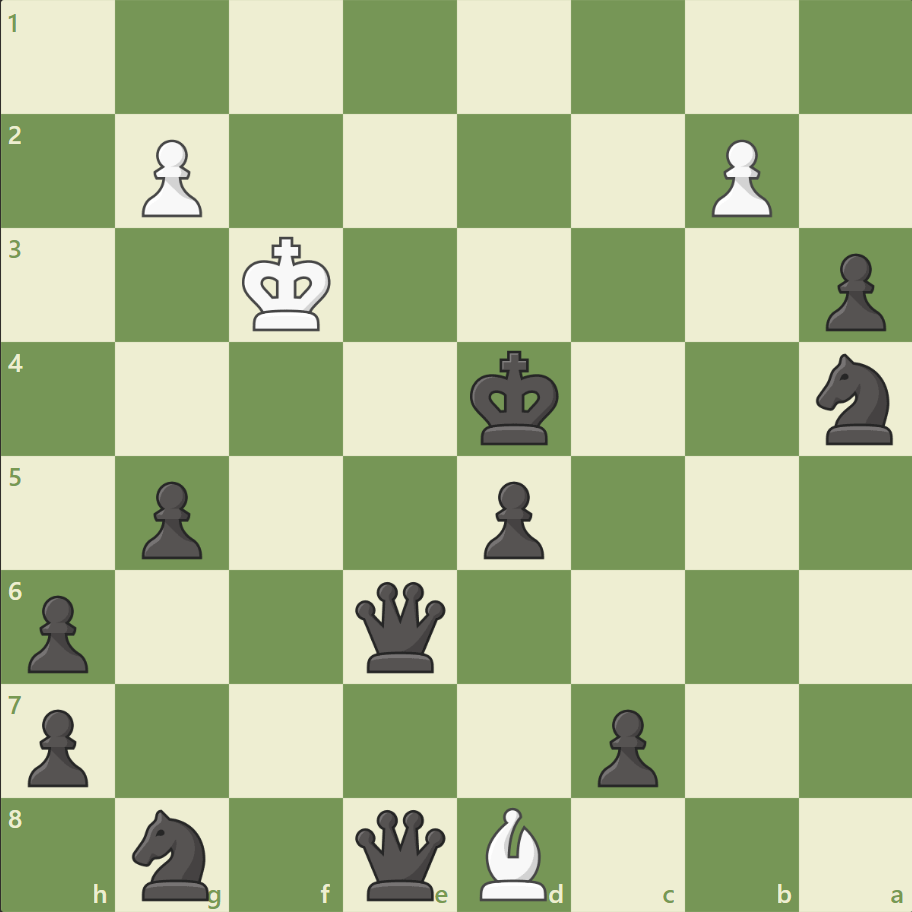B: (471, 801, 555, 904)
K: (238, 231, 338, 339)
P: (701, 132, 776, 223), (133, 132, 208, 223)
k: (465, 344, 565, 452)
n: (124, 802, 222, 904), (806, 348, 903, 450)
p: (20, 700, 95, 791), (20, 586, 95, 677), (474, 473, 549, 564), (133, 473, 208, 564), (588, 700, 662, 791), (815, 246, 889, 337)
q: (351, 576, 450, 676), (351, 804, 450, 903)
